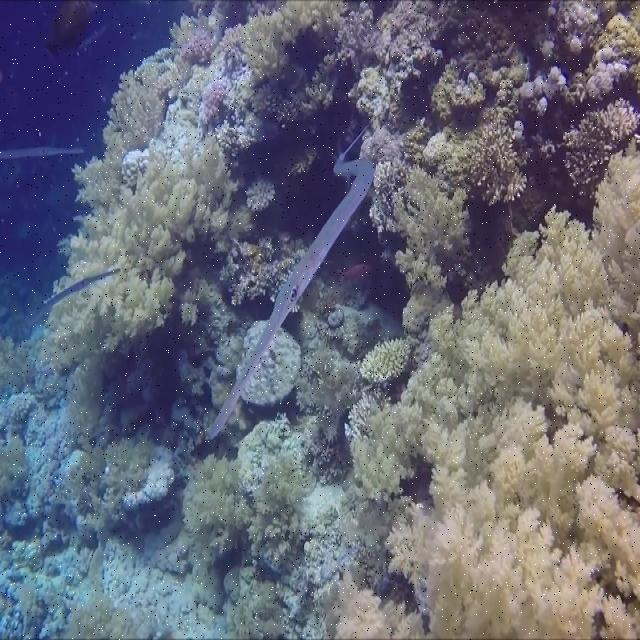fish: (210, 127, 374, 440), (45, 269, 119, 307)
reefs: (0, 0, 639, 639)
